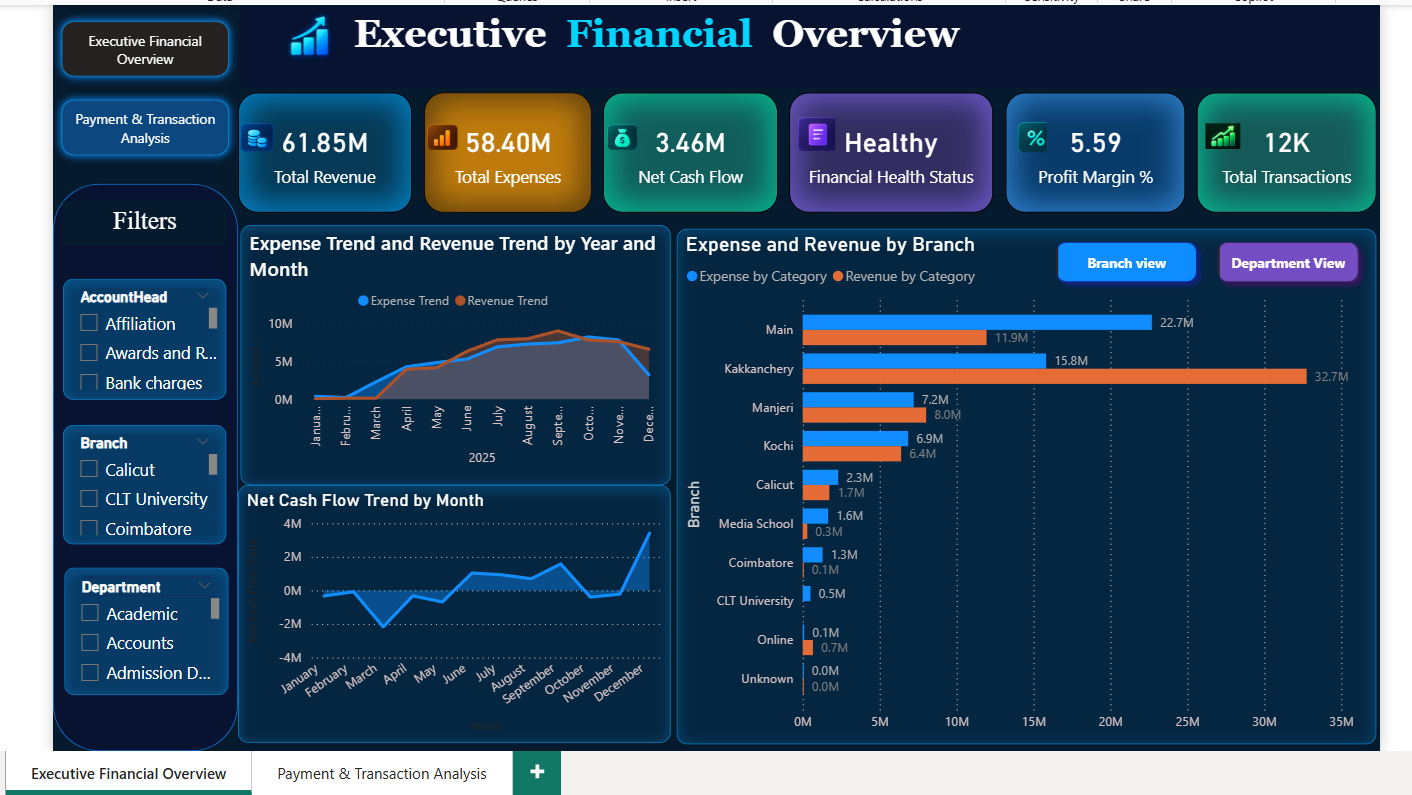

What the dashboard file says about the page in this screenshot:
{"tool":"powerbi","page":{"name":"Executive Financial Overview","canvas":[1280,720],"ordinal":0},"visuals":[{"type":"card","fields":{"Values":["FactTransactions.Total Revenue"]},"box":[178.6,84.5,167.7,115.8],"z":0},{"type":"card","fields":{"Values":["FactTransactions.Total Expenses"]},"box":[358.3,84.5,161.7,115.8],"z":1000},{"type":"card","fields":{"Values":["FactTransactions.Net Cash Flow"]},"box":[530.8,84.5,168.9,115.8],"z":2000},{"type":"card","fields":{"Values":["FactTransactions.Financial Health Status"]},"box":[710.6,84.5,196.6,115.8],"z":3000},{"type":"card","fields":{"Values":["FactTransactions.Total Transactions"]},"box":[1103.9,84.5,173.7,115.8],"z":4000},{"type":"card","fields":{"Values":["FactTransactions.Profit Margin %"]},"box":[919.3,84.5,173.7,115.8],"z":5000},{"type":"lineChart","fields":{"Y":["Calendar.Expense Trend","Calendar.Revenue Trend"],"Category":["Calendar.Year","Calendar.Month"]},"box":[181.4,212.3,415.1,251.2],"z":6000},{"type":"lineChart","fields":{"Y":["Calendar.Net Cash Flow Trend"],"Category":["Calendar.Month"]},"box":[178.7,463.5,417.8,248.5],"z":7000},{"type":"clusteredBarChart","title":"Expense and Revenue by  Branch","fields":{"Category":["DimBranch.Branch"],"Y":["Calendar.Expense by Category","Calendar.Revenue by Category"]},"box":[601.5,215.5,675.3,497.4],"z":8000},{"type":"textbox","box":[181,1,1099.5,78],"z":10000},{"type":"shape","box":[0,172.5,178.6,547.7],"z":11000},{"type":"slicer","fields":{"Values":["FactTransactions.AccountHead"]},"box":[9.6,263.7,158,116.8],"z":12000},{"type":"slicer","fields":{"Values":["DimBranch.Branch"]},"box":[9.6,405.2,158,115.4],"z":13000},{"type":"slicer","fields":{"Values":["DimDepartment.Department"]},"box":[10.9,542.9,158,123.1],"z":14000},{"type":"image","box":[178.6,1.2,138.7,59.1],"z":15000},{"type":"image","box":[178.6,106.2,36.2,41],"z":16000},{"type":"image","box":[358.3,106.2,32.6,41],"z":17000},{"type":"image","box":[530.8,89.3,32.6,74.8],"z":18000},{"type":"image","box":[711.8,100.1,43.4,47.1],"z":19000},{"type":"image","box":[919.3,89.3,39.8,74.8],"z":20000},{"type":"image","box":[1112.3,106.2,33.8,41],"z":21000},{"type":"pageNavigator","box":[0,7.2,178.6,147.2],"z":22000},{"type":"textbox","box":[9.7,189.4,158,42.2],"z":23000},{"type":"bookmarkNavigator","box":[959,219.1,311.4,57.7],"z":24000}]}

Visuals, with their boxes on the page's 1280x720 design canvas (x1, y1, x2, y2). These are canvas units, not pixel positions in the 1412x795 screenshot, which may show the page scaled, cropped or inside an application window:
card - FactTransactions.Total Revenue: 179:84:346:200
card - FactTransactions.Total Expenses: 358:84:520:200
card - FactTransactions.Net Cash Flow: 531:84:700:200
card - FactTransactions.Financial Health Status: 711:84:907:200
card - FactTransactions.Total Transactions: 1104:84:1278:200
card - FactTransactions.Profit Margin %: 919:84:1093:200
lineChart - Calendar.Expense Trend x Calendar.Revenue Trend: 181:212:596:464
lineChart - Calendar.Net Cash Flow Trend x Calendar.Month: 179:464:596:712
"Expense and Revenue by  Branch" clusteredBarChart: 602:216:1277:713
textbox: 181:1:1280:79
shape: 0:172:179:720
slicer - FactTransactions.AccountHead: 10:264:168:380
slicer - DimBranch.Branch: 10:405:168:521
slicer - DimDepartment.Department: 11:543:169:666
image: 179:1:317:60
image: 179:106:215:147
image: 358:106:391:147
image: 531:89:563:164
image: 712:100:755:147
image: 919:89:959:164
image: 1112:106:1146:147
pageNavigator: 0:7:179:154
textbox: 10:189:168:232
bookmarkNavigator: 959:219:1270:277
